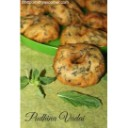vada: (57, 43, 105, 88), (21, 2, 58, 41), (63, 22, 107, 46), (47, 1, 85, 26)
